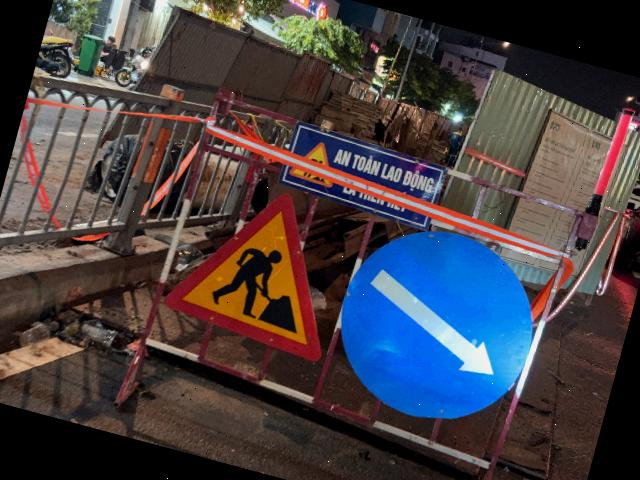cong-truong-dang-thi-cong: (158, 169, 360, 363)
huong-phai-di-vong-chuong-ngai-vat: (320, 212, 554, 441)
